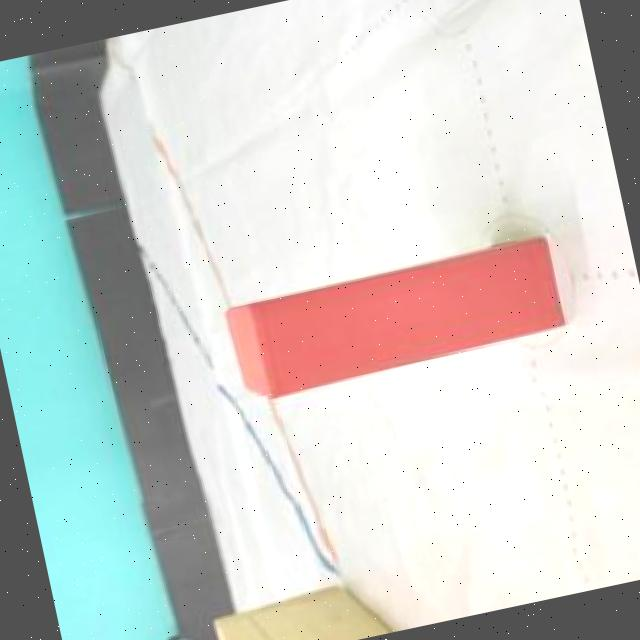redbox: (218, 235, 572, 405)
